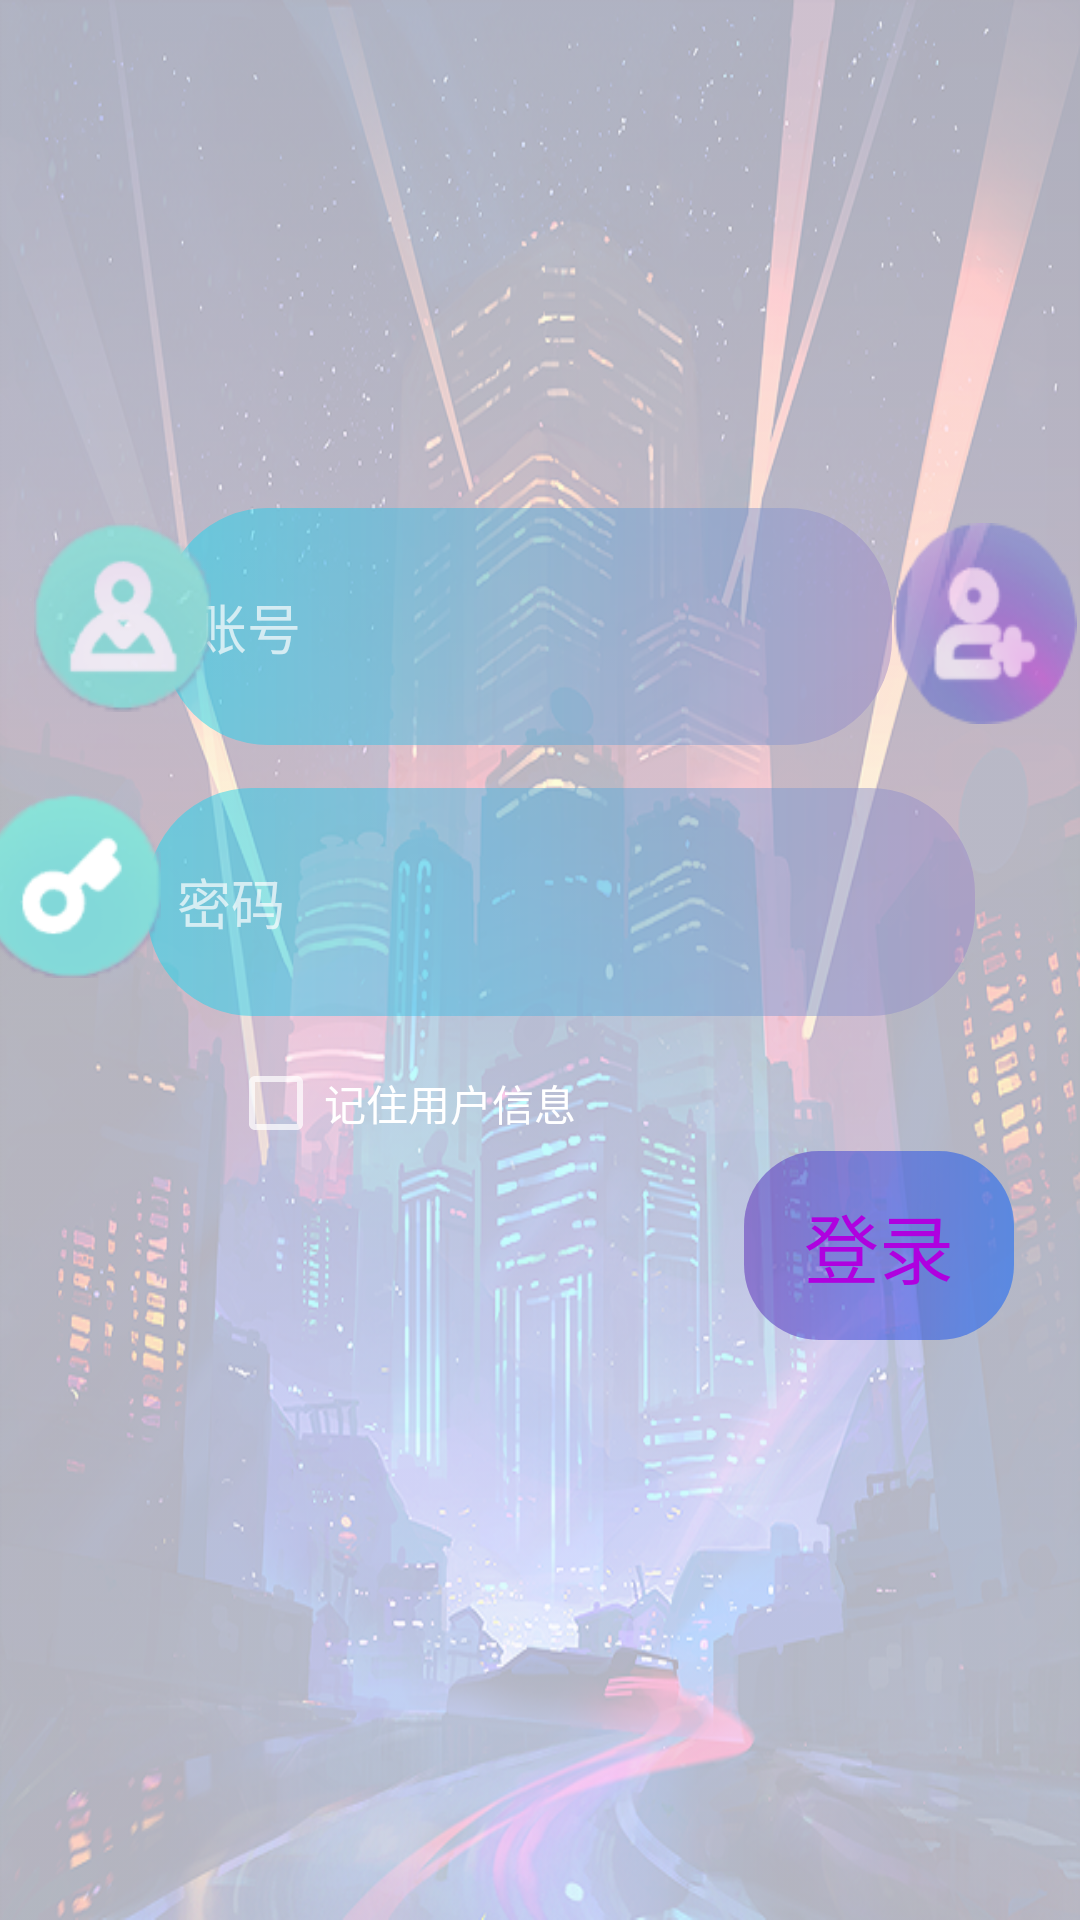

Named icons in this screenshot (1080 x 1920) and their centers, (x,y):
add: (986,623)
